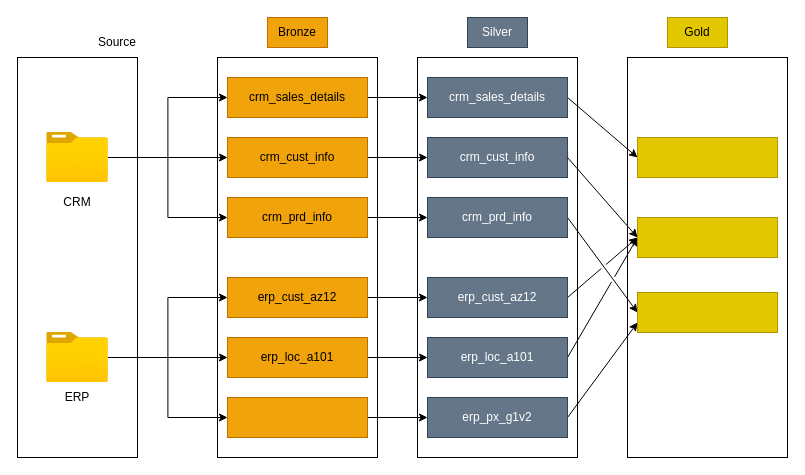
The diagram is 805 pixels wide and 475 high, and some of its shapes have lost their labels. Each missing label, with the centre of its shape:
dim_customers: the point at 707,237
dim_products: the point at 707,312
erp_cust_g1v2: the point at 297,417
fact_sales: the point at 707,157
